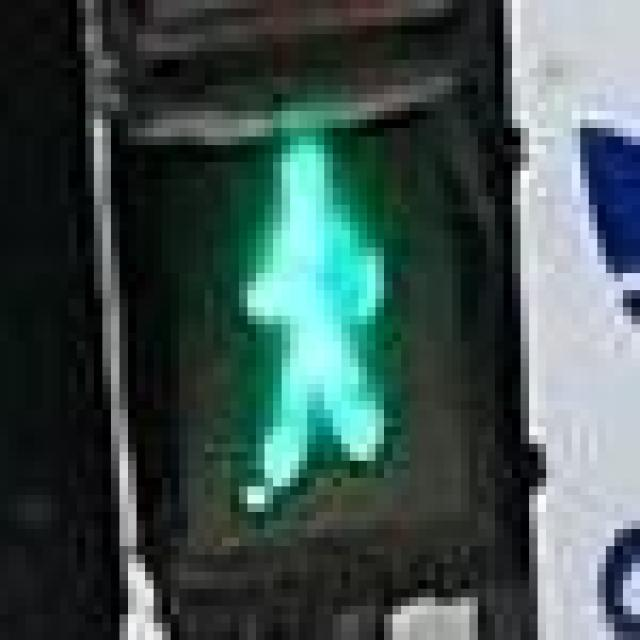green_light: (128, 93, 486, 520)
